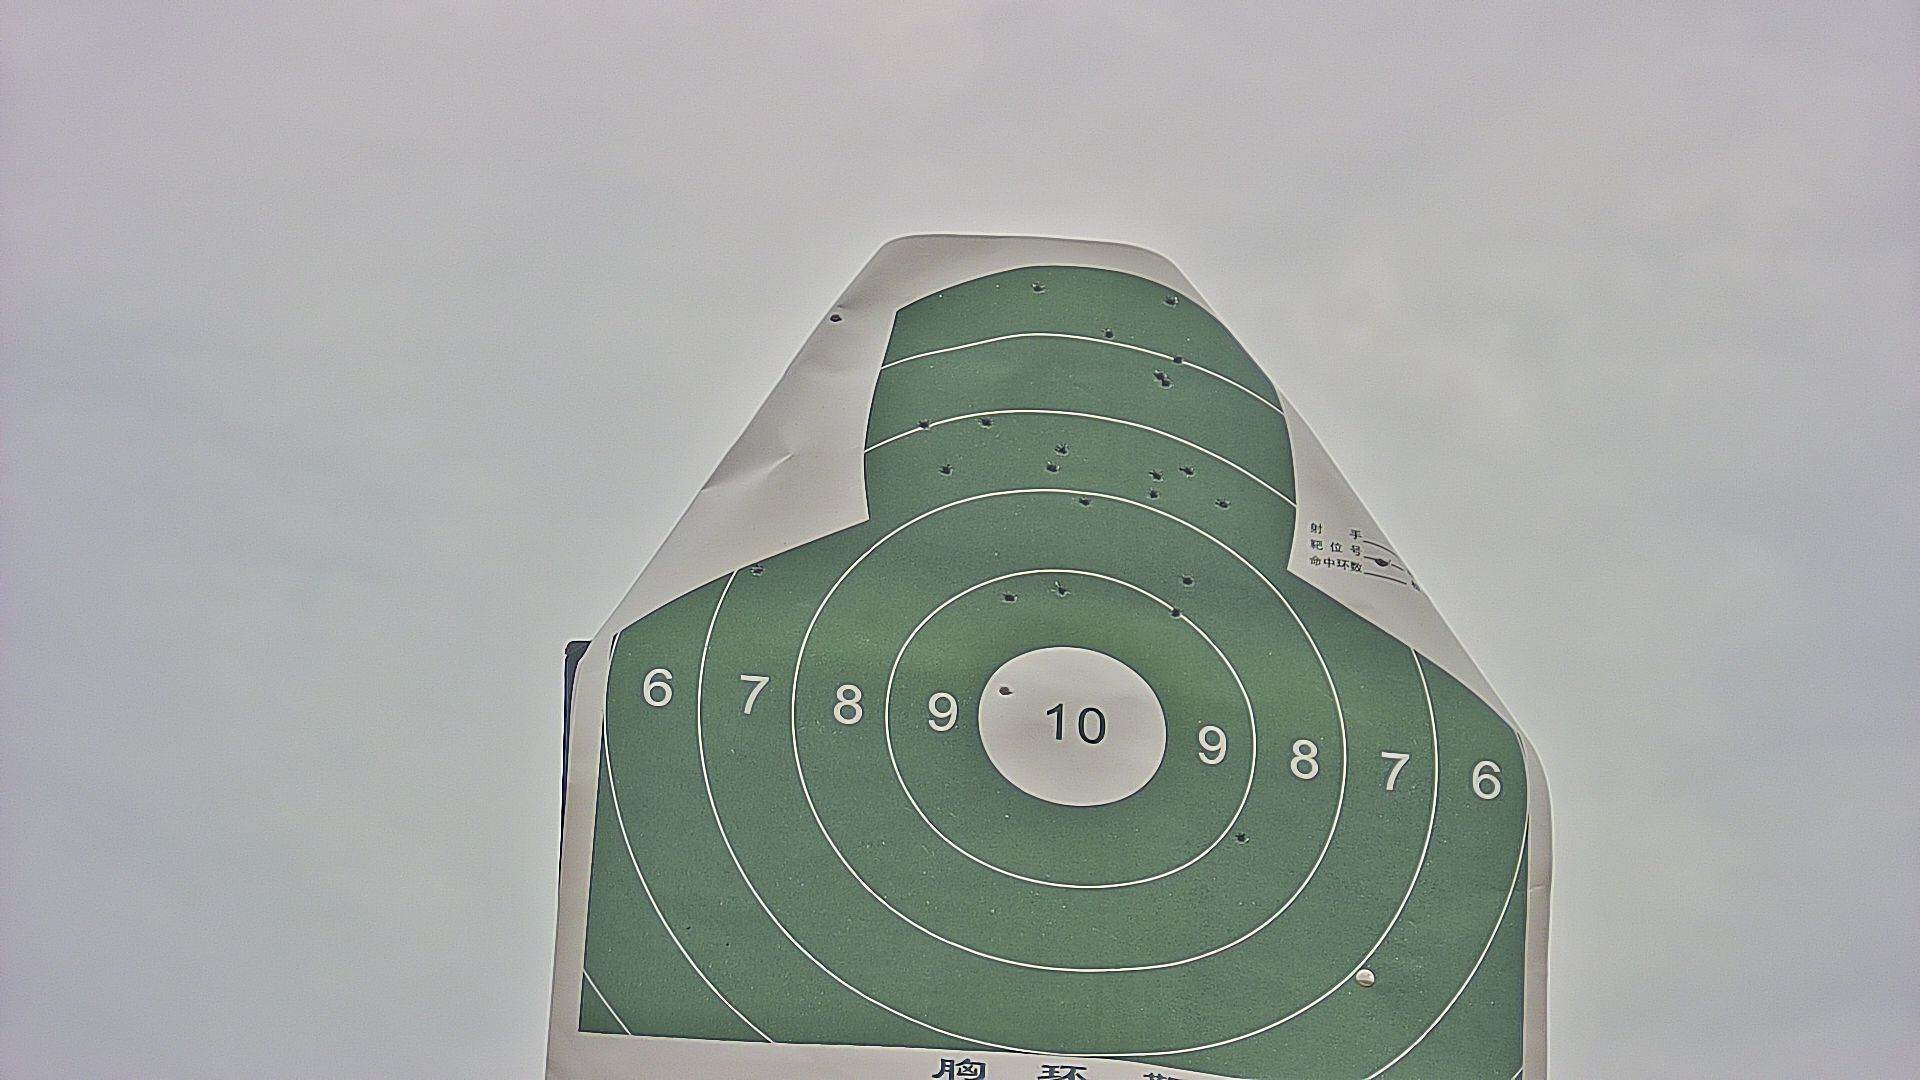hole: (1001, 591, 1019, 605), (1146, 487, 1162, 501), (978, 415, 994, 429), (1216, 496, 1229, 512), (1163, 294, 1178, 307), (1151, 469, 1166, 483), (998, 684, 1013, 698), (1234, 829, 1247, 843), (1033, 280, 1044, 294), (939, 463, 953, 475), (1158, 378, 1174, 389), (1054, 443, 1067, 455), (1182, 574, 1195, 585), (1056, 584, 1068, 596), (1046, 462, 1059, 472), (1080, 496, 1091, 509), (1170, 607, 1180, 618), (1180, 465, 1195, 473), (1102, 328, 1113, 339), (1153, 369, 1164, 378), (752, 564, 764, 574), (1174, 353, 1182, 367), (920, 418, 928, 431)
kernel: (1071, 723, 1075, 727)
target: (580, 269, 1528, 1080)
ten: (977, 645, 1166, 804)
